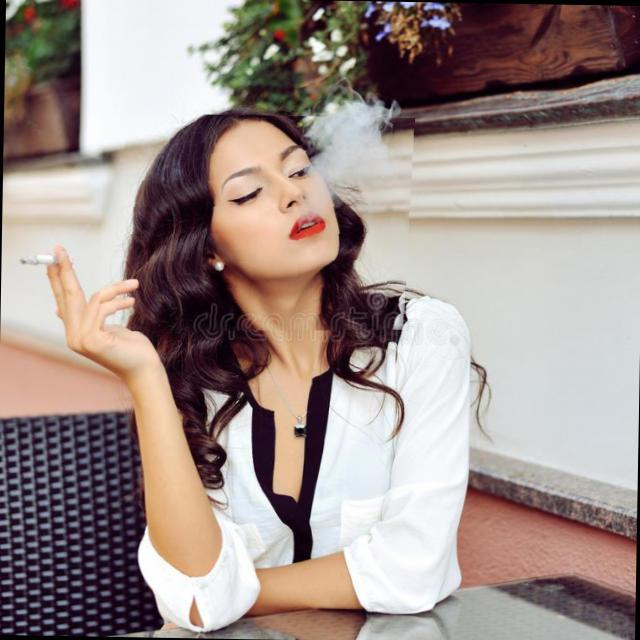cigarette: (6, 250, 66, 274)
